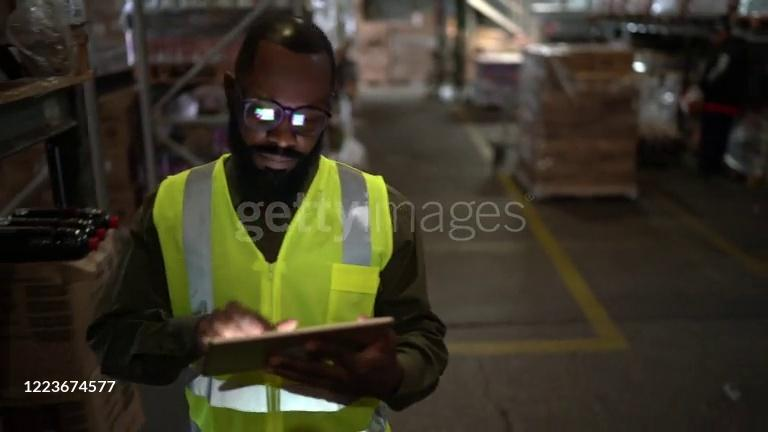person: (86, 15, 450, 432), (681, 16, 758, 180)
